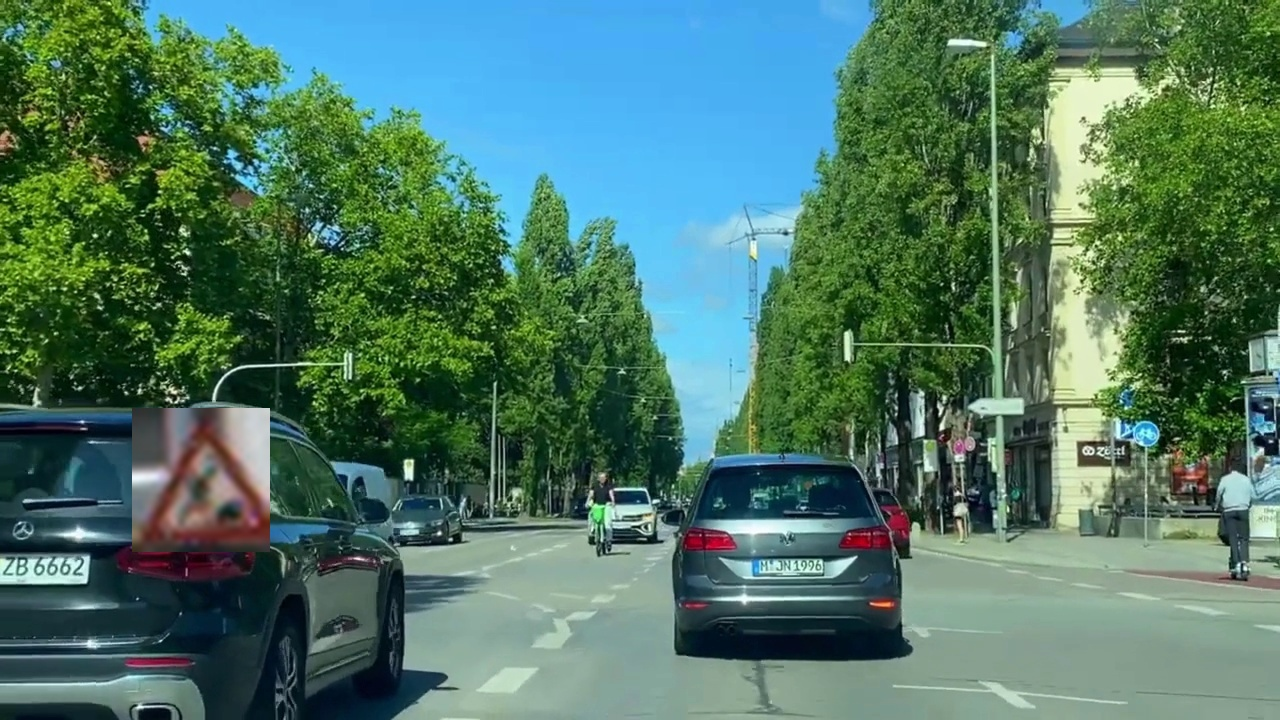Road work: (132, 408, 270, 552)
